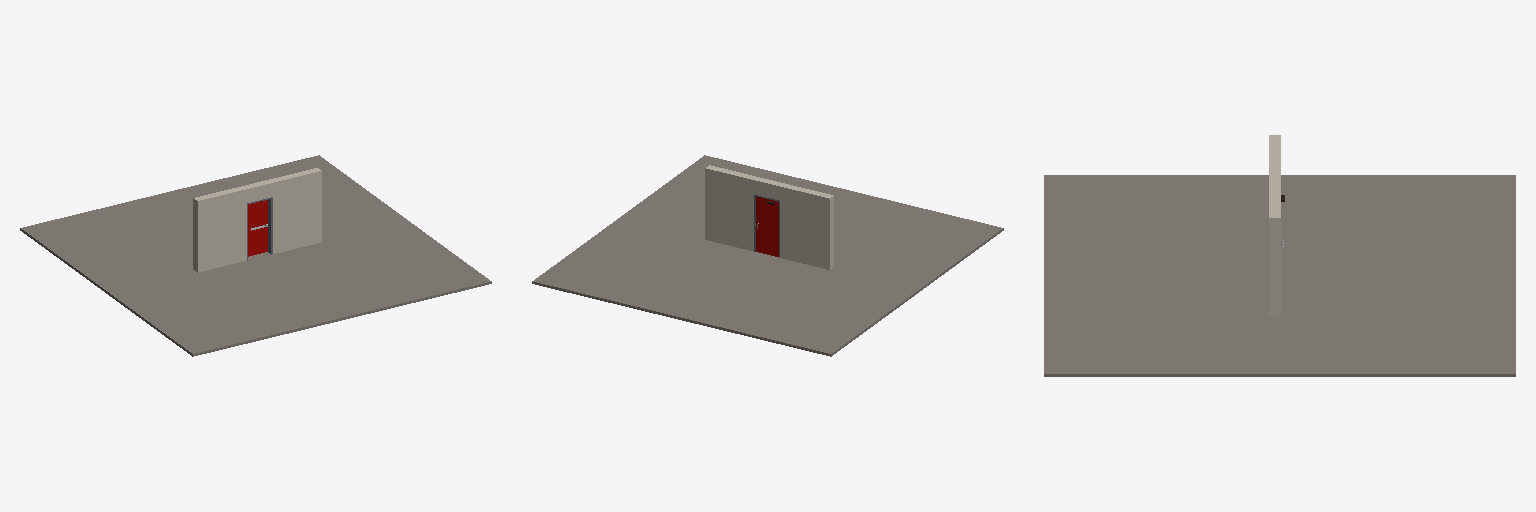
robot.urdf — db0451_swing_single_simple:
<?xml version="1.0" ?>
<robot xmlns:doorbench="https://github.com/adamraudonis/DoorBench/schema/urdf-ext" name="db0451_swing_single_simple">
  <link name="world_env">
    <visual name="floor_vis">
      <origin xyz="0 0 -0.05" rpy="0 0 0"/>
      <geometry>
        <box size="12 12 0.1"/>
      </geometry>
      <material name="mat_floor"/>
    </visual>
    <collision name="floor_col">
      <origin xyz="0 0 -0.05" rpy="0 0 0"/>
      <geometry>
        <box size="12 12 0.1"/>
      </geometry>
    </collision>
    <visual name="wall_left_vis">
      <origin xyz="-1.50525 -0.121 1.3735" rpy="0 0 0"/>
      <geometry>
        <box size="1.9895 0.3 2.747"/>
      </geometry>
      <material name="mat_wall"/>
    </visual>
    <collision name="wall_left_col">
      <origin xyz="-1.50525 -0.121 1.3735" rpy="0 0 0"/>
      <geometry>
        <box size="1.9895 0.3 2.747"/>
      </geometry>
    </collision>
    <visual name="wall_right_vis">
      <origin xyz="1.52025 -0.121 1.3735" rpy="0 0 0"/>
      <geometry>
        <box size="1.9595 0.3 2.747"/>
      </geometry>
      <material name="mat_wall"/>
    </visual>
    <collision name="wall_right_col">
      <origin xyz="1.52025 -0.121 1.3735" rpy="0 0 0"/>
      <geometry>
        <box size="1.9595 0.3 2.747"/>
      </geometry>
    </collision>
    <visual name="wall_header_vis">
      <origin xyz="0.015 -0.121 2.487" rpy="0 0 0"/>
      <geometry>
        <box size="1.051 0.3 0.52"/>
      </geometry>
      <material name="mat_wall"/>
    </visual>
    <collision name="wall_header_col">
      <origin xyz="0.015 -0.121 2.487" rpy="0 0 0"/>
      <geometry>
        <box size="1.051 0.3 0.52"/>
      </geometry>
    </collision>
    <visual name="hinge_0_jamb_vis">
      <origin xyz="-0.4575 0.029 0.259" rpy="3.141593 0 0"/>
      <geometry>
        <mesh filename="../../hardware/hinge_jamb_e1d088f8dc.obj"/>
      </geometry>
      <material name="mat_hinge"/>
    </visual>
    <visual name="hinge_1_jamb_vis">
      <origin xyz="-0.4575 0.029 0.827" rpy="3.141593 0 0"/>
      <geometry>
        <mesh filename="../../hardware/hinge_jamb_e1d088f8dc.obj"/>
      </geometry>
      <material name="mat_hinge"/>
    </visual>
    <visual name="hinge_2_jamb_vis">
      <origin xyz="-0.4575 0.029 1.395" rpy="3.141593 0 0"/>
      <geometry>
        <mesh filename="../../hardware/hinge_jamb_e1d088f8dc.obj"/>
      </geometry>
      <material name="mat_hinge"/>
    </visual>
    <visual name="hinge_3_jamb_vis">
      <origin xyz="-0.4575 0.029 1.963" rpy="3.141593 0 0"/>
      <geometry>
        <mesh filename="../../hardware/hinge_jamb_e1d088f8dc.obj"/>
      </geometry>
      <material name="mat_hinge"/>
    </visual>
    <visual name="jamb_hinge_vis">
      <origin xyz="-0.4855 -0.121 1.0735" rpy="0 0 0"/>
      <geometry>
        <box size="0.05 0.3 2.147"/>
      </geometry>
      <material name="mat_frame"/>
    </visual>
    <collision name="jamb_hinge_col">
      <origin xyz="-0.4855 -0.121 1.0735" rpy="0 0 0"/>
      <geometry>
        <box size="0.05 0.3 2.147"/>
      </geometry>
    </collision>
    <visual name="strike_1040_wall_n_vis">
      <origin xyz="0.5005 -0.163 1.04" rpy="0 0 0"/>
      <geometry>
        <box size="0.08 0.216 0.04"/>
      </geometry>
      <material name="mat_frame"/>
    </visual>
    <collision name="strike_1040_wall_n_col">
      <origin xyz="0.5005 -0.163 1.04" rpy="0 0 0"/>
      <geometry>
        <box size="0.08 0.216 0.04"/>
      </geometry>
    </collision>
    <visual name="strike_1040_wall_p_vis">
      <origin xyz="0.5005 -0.025 1.04" rpy="0 0 0"/>
      <geometry>
        <box size="0.08 0.016 0.04"/>
      </geometry>
      <material name="mat_frame"/>
    </visual>
    <collision name="strike_1040_wall_p_col">
      <origin xyz="0.5005 -0.025 1.04" rpy="0 0 0"/>
      <geometry>
        <box size="0.08 0.016 0.04"/>
      </geometry>
    </collision>
    <visual name="strike_1040_ramp_vis">
      <origin xyz="0.508781 0.0044 1.04" rpy="0 0 -0.294235"/>
      <geometry>
        <box size="0.08 0.068964 0.04"/>
      </geometry>
      <material name="mat_frame"/>
    </visual>
    <collision name="strike_1040_ramp_col">
      <origin xyz="0.508781 0.0044 1.04" rpy="0 0 -0.294235"/>
      <geometry>
        <box size="0.08 0.068964 0.04"/>
      </geometry>
    </collision>
    <visual name="strike_1040_back_vis">
      <origin xyz="0.512 -0.044 1.04" rpy="0 0 0"/>
      <geometry>
        <box size="0.057 0.022 0.04"/>
      </geometry>
      <material name="mat_frame"/>
    </visual>
    <collision name="strike_1040_back_col">
      <origin xyz="0.512 -0.044 1.04" rpy="0 0 0"/>
      <geometry>
        <box size="0.057 0.022 0.04"/>
      </geometry>
    </collision>
    <visual name="jamb_strike_0_vis">
      <origin xyz="0.5005 -0.121 0.51" rpy="0 0 0"/>
      <geometry>
        <box size="0.08 0.3 1.02"/>
      </geometry>
      <material name="mat_frame"/>
    </visual>
    <collision name="jamb_strike_0_col">
      <origin xyz="0.5005 -0.121 0.51" rpy="0 0 0"/>
      <geometry>
        <box size="0.08 0.3 1.02"/>
      </geometry>
    </collision>
    <visual name="jamb_strike_1_vis">
      <origin xyz="0.5005 -0.121 1.6035" rpy="0 0 0"/>
      <geometry>
        <box size="0.08 0.3 1.087"/>
      </geometry>
      <material name="mat_frame"/>
    </visual>
    <collision name="jamb_strike_1_col">
      <origin xyz="0.5005 -0.121 1.6035" rpy="0 0 0"/>
      <geometry>
        <box size="0.08 0.3 1.087"/>
      </geometry>
    </collision>
    <visual name="jamb_head_vis">
      <origin xyz="0.015 -0.121 2.172" rpy="0 0 0"/>
      <geometry>
        <box size="1.051 0.3 0.05"/>
      </geometry>
      <material name="mat_frame"/>
    </visual>
    <collision name="jamb_head_col">
      <origin xyz="0.015 -0.121 2.172" rpy="0 0 0"/>
      <geometry>
        <box size="1.051 0.3 0.05"/>
      </geometry>
    </collision>
    <visual name="head_stud_vis">
      <origin xyz="0.015 -0.121 2.212" rpy="0 0 0"/>
      <geometry>
        <box size="1.051 0.3 0.03"/>
      </geometry>
      <material name="mat_wall"/>
    </visual>
    <collision name="head_stud_col">
      <origin xyz="0.015 -0.121 2.212" rpy="0 0 0"/>
      <geometry>
        <box size="1.051 0.3 0.03"/>
      </geometry>
    </collision>
    <visual name="stop_hinge_vis">
      <origin xyz="-0.455 -0.0385 1.0735" rpy="0 0 0"/>
      <geometry>
        <box size="0.011 0.032 2.147"/>
      </geometry>
      <material name="mat_frame"/>
    </visual>
    <collision name="stop_hinge_col">
      <origin xyz="-0.455 -0.0385 1.0735" rpy="0 0 0"/>
      <geometry>
        <box size="0.011 0.032 2.147"/>
      </geometry>
    </collision>
    <visual name="stop_strike_vis">
      <origin xyz="0.455 -0.0385 0.49625" rpy="0 0 0"/>
      <geometry>
        <box size="0.011 0.032 0.9925"/>
      </geometry>
      <material name="mat_frame"/>
    </visual>
    <collision name="stop_strike_col">
      <origin xyz="0.455 -0.0385 0.49625" rpy="0 0 0"/>
      <geometry>
        <box size="0.011 0.032 0.9925"/>
      </geometry>
    </collision>
    <visual name="stop_strike_1_vis">
      <origin xyz="0.455 -0.0385 1.61725" rpy="0 0 0"/>
      <geometry>
        <box size="0.011 0.032 1.0595"/>
      </geometry>
      <material name="mat_frame"/>
    </visual>
    <collision name="stop_strike_1_col">
      <origin xyz="0.455 -0.0385 1.61725" rpy="0 0 0"/>
      <geometry>
        <box size="0.011 0.032 1.0595"/>
      </geometry>
    </collision>
    <visual name="stop_head_vis">
      <origin xyz="0 -0.0385 2.1415" rpy="0 0 0"/>
      <geometry>
        <box size="0.921 0.032 0.011"/>
      </geometry>
      <material name="mat_frame"/>
    </visual>
    <collision name="stop_head_col">
      <origin xyz="0 -0.0385 2.1415" rpy="0 0 0"/>
      <geometry>
        <box size="0.921 0.032 0.011"/>
      </geometry>
    </collision>
    <visual name="seal_hinge_vis">
      <origin xyz="-0.4575 -0.024 1.0735" rpy="0 0 0"/>
      <geometry>
        <box size="0.008 0.004 2.147"/>
      </geometry>
      <material name="mat_seal"/>
    </visual>
    <visual name="seal_strike_vis">
      <origin xyz="0.4575 -0.024 0.49625" rpy="0 0 0"/>
      <geometry>
        <box size="0.008 0.004 0.9925"/>
      </geometry>
      <material name="mat_seal"/>
    </visual>
    <visual name="seal_strike_1_vis">
      <origin xyz="0.4575 -0.024 1.61725" rpy="0 0 0"/>
      <geometry>
        <box size="0.008 0.004 1.0595"/>
      </geometry>
      <material name="mat_seal"/>
    </visual>
    <visual name="seal_head_vis">
      <origin xyz="0 -0.024 2.135" rpy="0 0 0"/>
      <geometry>
        <box size="0.881 0.004 0.016"/>
      </geometry>
      <material name="mat_seal"/>
    </visual>
  </link>
  <link name="leaf">
    <inertial>
      <origin xyz="0.430664 -0.016544 1.254818" rpy="0 0 0"/>
      <mass value="66.657721"/>
      <inertia ixx="29.385281952" ixy="0.138689095" ixz="1.636790028" iyy="33.649101596" iyz="-0.717150651" izz="4.422047268"/>
    </inertial>
    <visual name="leaf_slab_vis">
      <origin xyz="0.457 -0.029 1.076" rpy="0 0 0"/>
      <geometry>
        <box size="0.914 0.044 2.134"/>
      </geometry>
      <material name="mat_leaf"/>
    </visual>
    <collision name="leaf_slab_col">
      <origin xyz="0.457 -0.029 1.076" rpy="0 0 0"/>
      <geometry>
        <box size="0.914 0.044 2.134"/>
      </geometry>
    </collision>
    <visual name="hinge_0_vis">
      <origin xyz="0 0 0.259" rpy="3.141593 0 0"/>
      <geometry>
        <mesh filename="../../hardware/hinge_e22b26c0c1.obj"/>
      </geometry>
      <material name="mat_hinge"/>
    </visual>
    <visual name="hinge_1_vis">
      <origin xyz="0 0 0.827" rpy="3.141593 0 0"/>
      <geometry>
        <mesh filename="../../hardware/hinge_e22b26c0c1.obj"/>
      </geometry>
      <material name="mat_hinge"/>
    </visual>
    <visual name="hinge_2_vis">
      <origin xyz="0 0 1.395" rpy="3.141593 0 0"/>
      <geometry>
        <mesh filename="../../hardware/hinge_e22b26c0c1.obj"/>
      </geometry>
      <material name="mat_hinge"/>
    </visual>
    <visual name="hinge_3_vis">
      <origin xyz="0 0 1.963" rpy="3.141593 0 0"/>
      <geometry>
        <mesh filename="../../hardware/hinge_e22b26c0c1.obj"/>
      </geometry>
      <material name="mat_hinge"/>
    </visual>
    <visual name="leaf_exit_device_rail_vis">
      <origin xyz="0.51695 -0.057 1.04" rpy="0 0 0"/>
      <geometry>
        <box size="0.6341 0.012 0.05"/>
      </geometry>
      <material name="mat_op_stainless"/>
    </visual>
    <collision name="leaf_exit_device_rail_col">
      <origin xyz="0.51695 -0.057 1.04" rpy="0 0 0"/>
      <geometry>
        <box size="0.6341 0.012 0.05"/>
      </geometry>
    </collision>
    <visual name="leaf_exit_device_rail_end_n_vis">
      <origin xyz="0.2099 -0.0835 1.04" rpy="0 0 0"/>
      <geometry>
        <box size="0.02 0.065 0.05"/>
      </geometry>
      <material name="mat_op_stainless"/>
    </visual>
    <collision name="leaf_exit_device_rail_end_n_col">
      <origin xyz="0.2099 -0.0835 1.04" rpy="0 0 0"/>
      <geometry>
        <box size="0.02 0.065 0.05"/>
      </geometry>
    </collision>
    <visual name="leaf_exit_device_rail_end_p_vis">
      <origin xyz="0.824 -0.0835 1.04" rpy="0 0 0"/>
      <geometry>
        <box size="0.02 0.065 0.05"/>
      </geometry>
      <material name="mat_op_stainless"/>
    </visual>
    <collision name="leaf_exit_device_rail_end_p_col">
      <origin xyz="0.824 -0.0835 1.04" rpy="0 0 0"/>
      <geometry>
        <box size="0.02 0.065 0.05"/>
      </geometry>
    </collision>
    <visual name="leaf_exit_device_case_vis">
      <origin xyz="0.868 -0.085125 1.04" rpy="0 0 0"/>
      <geometry>
        <box size="0.068 0.06825 0.075"/>
      </geometry>
      <material name="mat_op_stainless"/>
    </visual>
    <collision name="leaf_exit_device_case_col">
      <origin xyz="0.868 -0.085125 1.04" rpy="0 0 0"/>
      <geometry>
        <box size="0.068 0.06825 0.075"/>
      </geometry>
    </collision>
    <visual name="leaf_far_pull_p_vis">
      <origin xyz="0.824 -0.007 1.04" rpy="-1.570796 0 0"/>
      <geometry>
        <mesh filename="../../hardware/pull_1e5d69a91a.obj"/>
      </geometry>
      <material name="mat_op_stainless"/>
    </visual>
    <collision name="leaf_far_pull_col_p_col">
      <origin xyz="0.824 0.053 1.04" rpy="0 0 0"/>
      <geometry>
        <cylinder radius="0.0095" length="0.16"/>
      </geometry>
    </collision>
    <visual name="closer_body_vis">
      <origin xyz="0.297 -0.007 2.054" rpy="-1.570796 0 0"/>
      <geometry>
        <mesh filename="../../hardware/closer_body_fdc4667657.obj"/>
      </geometry>
      <material name="mat_closer"/>
    </visual>
    <collision name="closer_body_col_col">
      <origin xyz="0.297 0.043 2.054" rpy="0 0 0"/>
      <geometry>
        <box size="0.29 0.1 0.07"/>
      </geometry>
    </collision>
  </link>
  <link name="leaf_exit_device">
    <inertial>
      <origin xyz="0 -0.05 0" rpy="0 0 0"/>
      <mass value="4.76361"/>
      <inertia ixx="0.00116113" ixy="0" ixz="0" iyy="0.138099678" iyz="0" izz="0.137653089"/>
    </inertial>
    <visual name="leaf_exit_device_pad_vis">
      <origin xyz="0 0 0" rpy="1.570796 0 0"/>
      <geometry>
        <mesh filename="../../hardware/touchbar_pad_2729a067b4.obj"/>
      </geometry>
      <material name="mat_op_stainless"/>
    </visual>
    <collision name="leaf_exit_device_pad_col_col">
      <origin xyz="0 -0.05 0" rpy="0 0 0"/>
      <geometry>
        <box size="0.5881 0.03 0.045"/>
      </geometry>
    </collision>
  </link>
  <link name="leaf_latch_bolt">
    <inertial>
      <origin xyz="-0.0055 0 0" rpy="0 0 0"/>
      <mass value="0.102826"/>
      <inertia ixx="0.000004365" ixy="0" ixz="0" iyy="0.000018287" iyz="0" izz="0.000018287"/>
    </inertial>
    <visual name="leaf_latch_bolt_capsule_vis">
      <origin xyz="-0.0055 0 0" rpy="0 1.570796 0"/>
      <geometry>
        <cylinder radius="0.0095" length="0.03"/>
      </geometry>
      <material name="mat_bolt"/>
    </visual>
    <collision name="leaf_latch_bolt_capsule_col">
      <origin xyz="-0.0055 0 0" rpy="0 1.570796 0"/>
      <geometry>
        <cylinder radius="0.0095" length="0.03"/>
      </geometry>
    </collision>
  </link>
  <joint name="leaf_hinge" type="revolute">
    <origin xyz="-0.4575 0.029 0" rpy="0 0 0"/>
    <parent link="world_env"/>
    <child link="leaf"/>
    <axis xyz="0 0 1"/>
    <limit lower="0" upper="1.745329" effort="2000" velocity="10"/>
    <dynamics damping="12.268966" friction="1.453555"/>
    <doorbench:spring stiffness="14.845973" springref="-1.978988" note="tau = -stiffness*(q - springref); not native URDF"/>
    <doorbench:closer damping_closing="90" damping_opening="12" backcheck_angle="1.22" backcheck_damping="60"/>
  </joint>
  <joint name="leaf_exit_device_slide" type="prismatic">
    <origin xyz="0.51695 -0.051 1.04" rpy="0 0 0"/>
    <parent link="leaf"/>
    <child link="leaf_exit_device"/>
    <axis xyz="0 1 0"/>
    <limit lower="0" upper="0.016" effort="5000" velocity="10"/>
    <dynamics damping="153.575154" friction="0.5"/>
    <doorbench:spring stiffness="1200" springref="-0.015" note="tau = -stiffness*(q - springref); not native URDF"/>
  </joint>
  <joint name="leaf_latch_bolt_slide" type="prismatic">
    <origin xyz="0.914 -0.073 1.04" rpy="0 0 0"/>
    <parent link="leaf"/>
    <child link="leaf_latch_bolt"/>
    <axis xyz="-1 0 0"/>
    <limit lower="0" upper="0.019" effort="5000" velocity="10"/>
    <dynamics damping="2" friction="0.3"/>
    <doorbench:spring stiffness="800" springref="-0.01" note="tau = -stiffness*(q - springref); not native URDF"/>
    <mimic joint="leaf_exit_device_slide" multiplier="1.357143" offset="0"/>
    <doorbench:coupling one_sided="true" note="MJCF uses a one-sided tendon (bolt may retract further, e.g. riding over the strike lip); mimic is bilateral"/>
  </joint>
  <material name="mat_bolt">
    <color rgba="0.75 0.76 0.77 1"/>
  </material>
  <material name="mat_closer">
    <color rgba="0.22 0.17 0.13 1"/>
  </material>
  <material name="mat_floor">
    <color rgba="0.55 0.53 0.5 1"/>
  </material>
  <material name="mat_frame">
    <color rgba="0.45 0.48 0.52 1"/>
  </material>
  <material name="mat_hinge">
    <color rgba="0.65 0.66 0.68 1"/>
  </material>
  <material name="mat_leaf">
    <color rgba="0.7 0.08 0.05 1"/>
  </material>
  <material name="mat_op_stainless">
    <color rgba="0.75 0.76 0.77 1"/>
  </material>
  <material name="mat_seal">
    <color rgba="0.1 0.1 0.1 1"/>
  </material>
  <material name="mat_wall">
    <color rgba="0.78 0.76 0.7 1"/>
  </material>
</robot>

--- What the picture shows (computed from the rendered views, not written in the file) ---
Views: 3 orthographic renders of the robot side by side, from view 1: azimuth 30°, elevation 25°; view 2: azimuth 150°, elevation 25°; view 3: azimuth 270°, elevation 25°.
Model db0451_swing_single_simple with 4 links and 3 joints (1 revolute, 2 prismatic), rooted at world_env, posed every joint at zero.
Visible links, largest first — view 1: world_env, leaf; view 2: world_env, leaf; view 3: world_env.
Link boxes in pixels (<box>): world_env: <box>20,155,491,356</box>; leaf: <box>248,200,267,256</box>; world_env: <box>532,155,1003,356</box>; leaf: <box>756,196,778,256</box>; world_env: <box>1044,135,1515,376</box>.
Bounding box of the posed robot: 12 × 12 × 2.85 m (x, y, z).
Meshes: 5 distinct files referenced, 11 mesh visuals loaded (5 OBJ).
